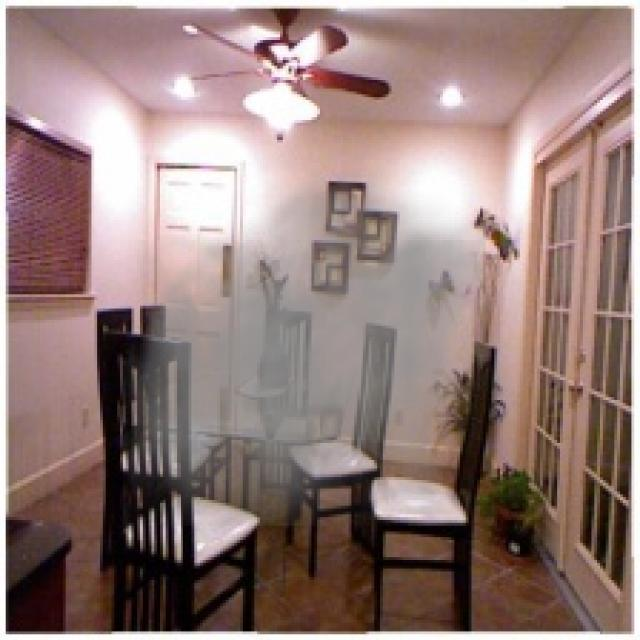Smoke: (123, 157, 486, 526)
